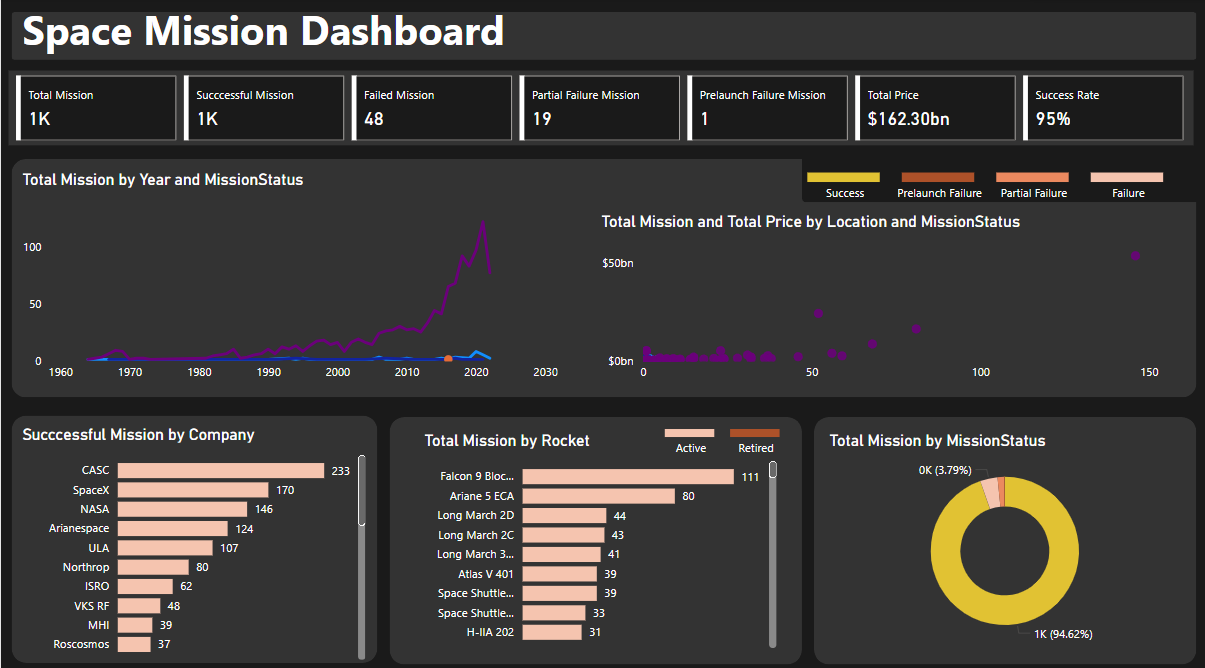

This screenshot's page, from the dashboard's own definition file:
{"tool":"powerbi","page":{"name":"Page 2","canvas":[1280,720],"ordinal":1},"visuals":[{"type":"shape","box":[11.1,15.9,1256.6,50.9],"z":0},{"type":"shape","box":[11.1,171.8,1256.6,252.9],"z":1000},{"type":"shape","box":[11.1,443.8,388.1,262.5],"z":2000},{"type":"shape","box":[412,445.4,437.4,262.5],"z":3000},{"type":"shape","box":[862.1,445.4,405.6,262.5],"z":4000},{"type":"donutChart","fields":{"Y":["Date Table.Total Mission"],"Category":["space_missions.MissionStatus"]},"box":[873.2,459.7,381.7,235.4],"z":5000},{"type":"barChart","fields":{"Category":["space_missions.Rocket"],"Y":["Date Table.Total Mission"]},"box":[443.8,459.7,383.3,235.4],"z":6000},{"type":"barChart","fields":{"Category":["space_missions.Company"],"Y":["Key_Matrics.Succcessful Mission"]},"box":[17.5,453.3,373.8,254.5],"z":7000},{"type":"shape","box":[849.4,146.3,431.1,71.6],"z":8000},{"type":"lineChart","fields":{"Category":["Date Table.Year"],"Y":["Date Table.Total Mission"],"Series":["space_missions.MissionStatus"]},"box":[17.5,182.9,577.4,232.2],"z":9000},{"type":"scatterChart","fields":{"X":["Date Table.Total Mission"],"Y":["Key_Matrics.Total Price"],"Series":["space_missions.MissionStatus"],"Category":["space_missions.Location"]},"box":[631.5,227.5,636.2,187.7],"z":10000},{"type":"columnChart","fields":{"Y":["Key_Matrics.LEGEND"],"Category":["space_missions.MissionStatus"]},"box":[809.6,171.8,470.8,54.1],"z":11000},{"type":"columnChart","fields":{"Y":["Key_Matrics.LEGEND"],"Category":["space_missions.RocketStatus"]},"box":[636.2,443.8,259.3,52.5],"z":12000},{"type":"cardVisual","fields":{"Data":["Date Table.Total Mission","Key_Matrics.Succcessful Mission","Key_Matrics.Failed Mission","Key_Matrics.Partial Failure  Mission","Key_Matrics.Prelaunch Failure  Mission","Key_Matrics.Total Price","Key_Matrics.Success Rate"]},"box":[8,77.9,1256.6,79.5],"z":13000},{"type":"textbox","box":[17.5,0,831.9,77.9],"z":14000}]}

Visuals, with their boxes in screenshot pixels (x1, y1, x2, y2), scaled from the page's 1280x720 canvas onto the 1205x668 screenshot:
shape: (10,15,1193,62)
shape: (10,159,1193,394)
shape: (10,412,376,655)
shape: (388,413,800,657)
shape: (812,413,1193,657)
donutChart - Date Table.Total Mission x space_missions.MissionStatus: (822,426,1181,645)
barChart - space_missions.Rocket x Date Table.Total Mission: (418,426,779,645)
barChart - space_missions.Company x Key_Matrics.Succcessful Mission: (16,421,368,657)
shape: (800,136,1204,202)
lineChart - Date Table.Year x Date Table.Total Mission: (16,170,560,385)
scatterChart - Date Table.Total Mission x Key_Matrics.Total Price: (594,211,1193,385)
columnChart - Key_Matrics.LEGEND x space_missions.MissionStatus: (762,159,1204,210)
columnChart - Key_Matrics.LEGEND x space_missions.RocketStatus: (599,412,843,460)
cardVisual - Date Table.Total Mission x Key_Matrics.Succcessful Mission: (8,72,1191,146)
textbox: (16,0,800,72)
